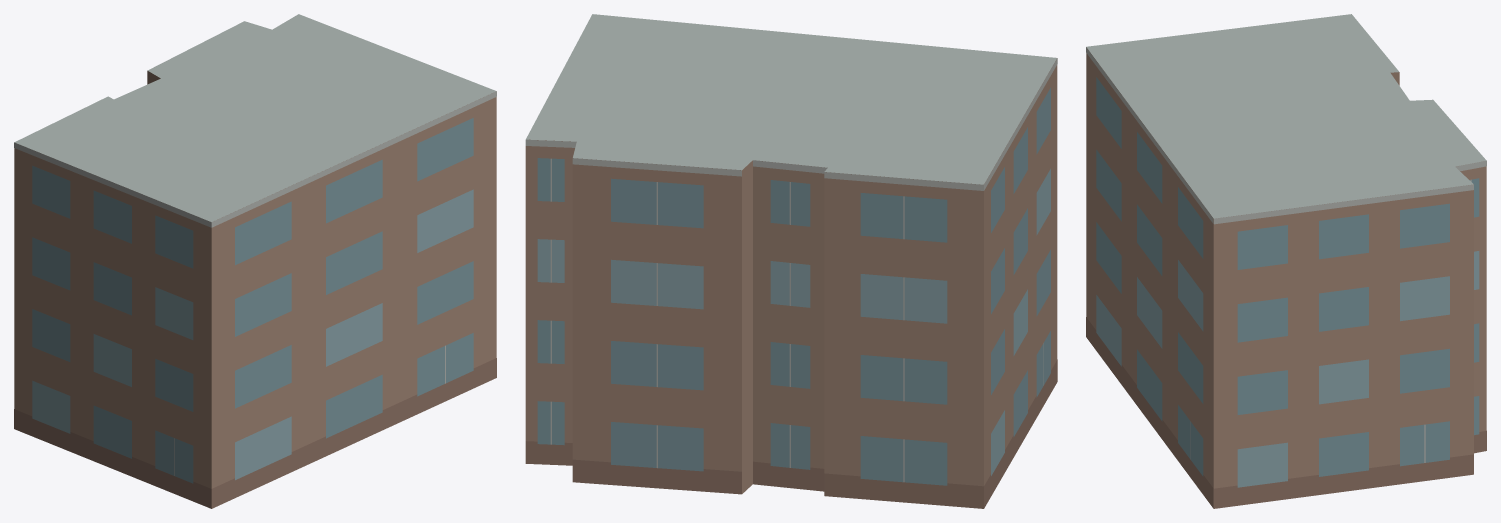
File: survey-upis-32679237.glb
The picture shows the model from 3 angles, left to right: view 1: azimuth 30°, elevation 25°; view 2: azimuth 150°, elevation 25°; view 3: azimuth 270°, elevation 25°; orthographic projection. The views are drawn at different scales.
Visible parts, largest first — view 1: survey-upis-32679237.tmp; view 2: survey-upis-32679237.tmp; view 3: survey-upis-32679237.tmp.
Part boxes in pixels (left/top/right/bottom): survey-upis-32679237.tmp: left=14, top=14, right=496, bottom=508; survey-upis-32679237.tmp: left=525, top=14, right=1057, bottom=508; survey-upis-32679237.tmp: left=1086, top=14, right=1486, bottom=508.
Bounding box in the file's own units: 18.92 × 12.5 × 15.65.
